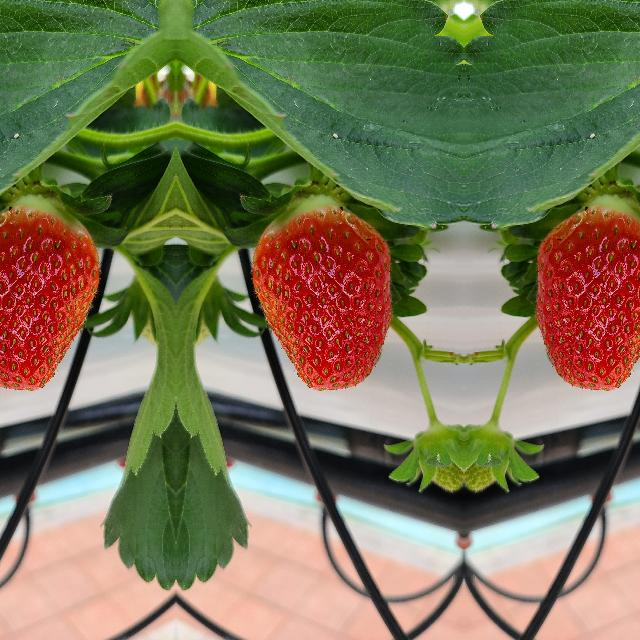Health_100: (249, 196, 393, 392), (533, 196, 640, 391), (0, 196, 101, 391)
